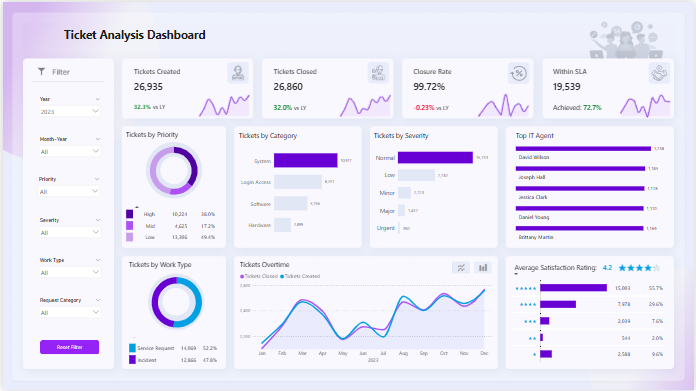

What the dashboard file says about the page in this screenshot:
{"tool":"powerbi","page":{"name":"Purple Breeze","canvas":[1920,1080],"ordinal":0},"visuals":[{"type":"slicer","fields":{"Values":["Calendar.Year"]},"box":[88.5,257.2,192.9,71.8],"z":0},{"type":"slicer","fields":{"Values":["Priority.Priority"]},"box":[87.4,481.7,194.2,70.5],"z":1000},{"type":"slicer","fields":{"Values":["Severity.Severity"]},"box":[87.9,593.3,193.7,70.5],"z":2000},{"type":"slicer","fields":{"Values":["Tickets.Work Type"]},"box":[87.9,705,193.7,70.5],"z":3000},{"type":"slicer","fields":{"Values":["Calendar.Month-Year"]},"box":[87.9,370.1,193.7,70.5],"z":4000},{"type":"textbox","box":[164.2,64.8,615.6,54],"z":5000},{"type":"slicer","fields":{"Values":["Tickets.Request Category"]},"box":[88.5,816.6,194.2,70],"z":6000},{"type":"actionButton","box":[102.4,939,164.9,39.9],"z":8000},{"type":"tableEx","fields":{"Values":["Tickets.Star","_Measures.Tickets Created","_Measures.Tix 3","_Measures.Tix 2"]},"box":[1408.2,715.7,450.2,297],"z":9000},{"type":"PBI_CV_9053509D_D461_463A_B485_CE9F6AB0F13D","fields":{"value":["Tickets.Avg Rating"]},"box":[1693.2,718.2,150.3,37.2],"z":10000},{"type":"textbox","box":[1399.2,718.9,254.5,38.7],"z":11000},{"type":"card","fields":{"Values":["Tickets.Avg Rating"]},"box":[1654.2,720,47,38.7],"z":12000},{"type":"clusteredBarChart","title":"Tickets by Severity","fields":{"Category":["Severity.Severity"],"Y":["Tickets.Tickets Created"]},"box":[1026.4,357.2,329.8,312],"z":13000},{"type":"clusteredBarChart","title":"Tickets by Category","fields":{"Category":["Tickets.Request Category"],"Y":["Tickets.Tickets Created"]},"box":[650,357.2,327.1,312],"z":14000},{"type":"areaChart","title":"Tickets Overtime","fields":{"Y":["Tickets.Tickets Closed","Tickets.Tickets Created"],"Category":["Calendar.Year","Calendar.Month"]},"box":[653.1,716.9,711.5,300.1],"z":16000},{"type":"actionButton","box":[1248.9,716.9,53.8,40],"z":17000},{"type":"actionButton","box":[1305.4,716.9,53.8,40],"z":18000},{"type":"clusteredBarChart","title":"Top IT Agent","fields":{"Y":["_Measures.Tickets Closed","_Measures.Label 0"],"Category":["IT_Agents.Full Name"]},"box":[1420.5,357.2,422.9,307.9],"z":19000},{"type":"PBI_CV_25997FEB_F466_44FA_B562_AC4063283C4C","fields":{"measure":["_Measures.Tickets Created"],"axis":["Calendar.Month-Year"]},"box":[528.2,241.7,177.9,86.9],"z":20000},{"type":"PBI_CV_25997FEB_F466_44FA_B562_AC4063283C4C","fields":{"measure":["_Measures.Tickets Closed"],"axis":["Calendar.Month-Year"]},"box":[918.4,241.7,178.6,87.3],"z":21000},{"type":"PBI_CV_25997FEB_F466_44FA_B562_AC4063283C4C","fields":{"measure":["_Measures.Closure Rate"],"axis":["Calendar.Month-Year"]},"box":[1303.7,241.7,178.6,87.3],"z":22000},{"type":"PBI_CV_25997FEB_F466_44FA_B562_AC4063283C4C","fields":{"measure":["Tickets.Within SLA"],"axis":["Calendar.Month-Year"]},"box":[1696,242,177.9,86.9],"z":23000},{"type":"cardVisual","fields":{"Data":["Tickets.Tickets Created","Tickets.Tickets Closed","Tickets.Closure Rate","Tickets.Within SLA"]},"box":[336.7,167,1553.4,161.6],"z":24000},{"type":"pieChart","title":"Tickets by Work Type","fields":{"Y":["Tickets.Tickets Created"],"Category":["Tickets.Work Type"]},"box":[343.2,716.9,276.7,210.1],"z":25000},{"type":"tableEx","fields":{"Values":["Priority.Color","Priority.Priority","Tickets.Tickets Created","Calendar.Total Tickets 2"]},"box":[335.2,540,284.6,156.9],"z":26000},{"type":"donutChart","title":"Tickets by Priority","fields":{"Y":["Tickets.Tickets Created"],"Category":["Priority.Priority"]},"box":[336.7,354.4,276.4,201.2],"z":27000},{"type":"tableEx","fields":{"Values":["Issue Color.Issue Color","Tickets.Work Type","Tickets.Tickets Created","Calendar.Total Tickets 2"]},"box":[345.8,912.4,274,111.7],"z":28000}]}

Visuals, with their boxes in screenshot pixels (x1, y1, x2, y2), scaled from the page's 1920x1080 canvas onto the 696x391 screenshot:
slicer - Calendar.Year: select_region(32, 93, 102, 119)
slicer - Priority.Priority: select_region(32, 174, 102, 200)
slicer - Severity.Severity: select_region(32, 215, 102, 240)
slicer - Tickets.Work Type: select_region(32, 255, 102, 281)
slicer - Calendar.Month-Year: select_region(32, 134, 102, 160)
textbox: select_region(60, 23, 283, 43)
slicer - Tickets.Request Category: select_region(32, 296, 102, 321)
actionButton: select_region(37, 340, 97, 354)
tableEx - Tickets.Star x _Measures.Tickets Created: select_region(510, 259, 674, 367)
PBI_CV_9053509D_D461_463A_B485_CE9F6AB0F13D - Tickets.Avg Rating: select_region(614, 260, 668, 273)
textbox: select_region(507, 260, 599, 274)
card - Tickets.Avg Rating: select_region(600, 261, 617, 275)
"Tickets by Severity" clusteredBarChart: select_region(372, 129, 492, 242)
"Tickets by Category" clusteredBarChart: select_region(236, 129, 354, 242)
"Tickets Overtime" areaChart: select_region(237, 260, 495, 368)
actionButton: select_region(453, 260, 472, 274)
actionButton: select_region(473, 260, 493, 274)
"Top IT Agent" clusteredBarChart: select_region(515, 129, 668, 241)
PBI_CV_25997FEB_F466_44FA_B562_AC4063283C4C - _Measures.Tickets Created x Calendar.Month-Year: select_region(191, 88, 256, 119)
PBI_CV_25997FEB_F466_44FA_B562_AC4063283C4C - _Measures.Tickets Closed x Calendar.Month-Year: select_region(333, 88, 398, 119)
PBI_CV_25997FEB_F466_44FA_B562_AC4063283C4C - _Measures.Closure Rate x Calendar.Month-Year: select_region(473, 88, 537, 119)
PBI_CV_25997FEB_F466_44FA_B562_AC4063283C4C - Tickets.Within SLA x Calendar.Month-Year: select_region(615, 88, 679, 119)
cardVisual - Tickets.Tickets Created x Tickets.Tickets Closed: select_region(122, 60, 685, 119)
"Tickets by Work Type" pieChart: select_region(124, 260, 225, 336)
tableEx - Priority.Color x Priority.Priority: select_region(122, 196, 225, 252)
"Tickets by Priority" donutChart: select_region(122, 128, 222, 201)
tableEx - Issue Color.Issue Color x Tickets.Work Type: select_region(125, 330, 225, 371)
